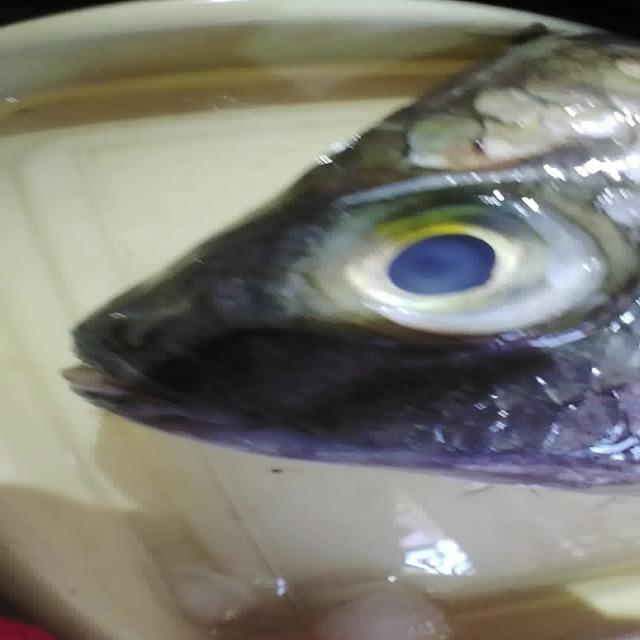Fresh: (338, 210, 590, 363)
